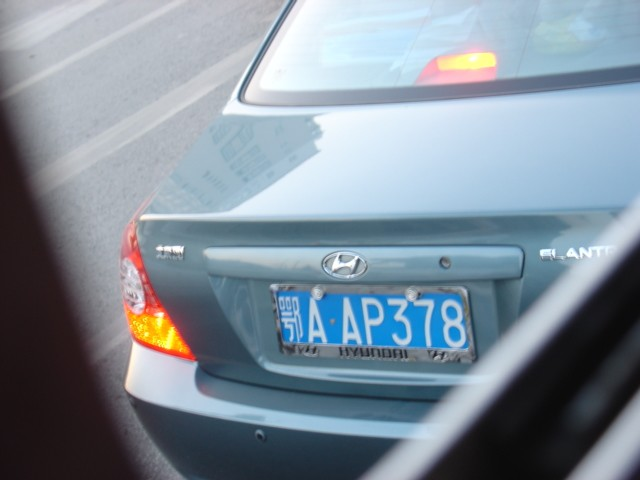plate_number: (274, 290, 472, 356)
